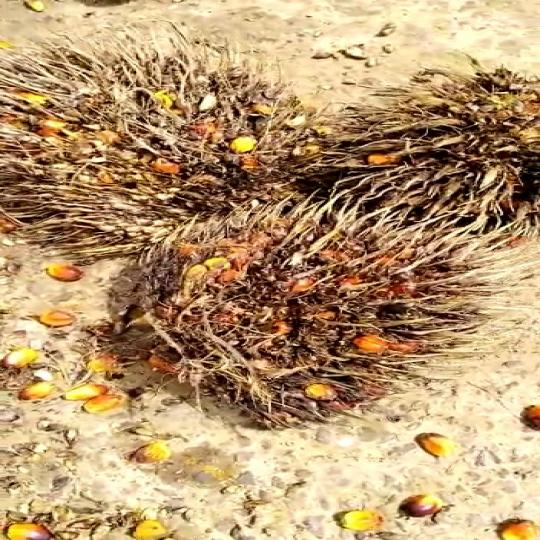terlalu masak: (84, 200, 514, 407), (0, 59, 327, 247)
